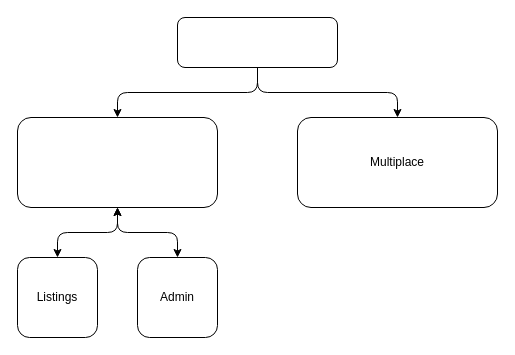
The diagram is 515 pixels wide and 355 high, and some of its shapes have lost their labels. The centre of each missing label's shape, as x and y in pixels:
MultiplaceProxy: pixel 117 162
Storage: pixel 257 42
